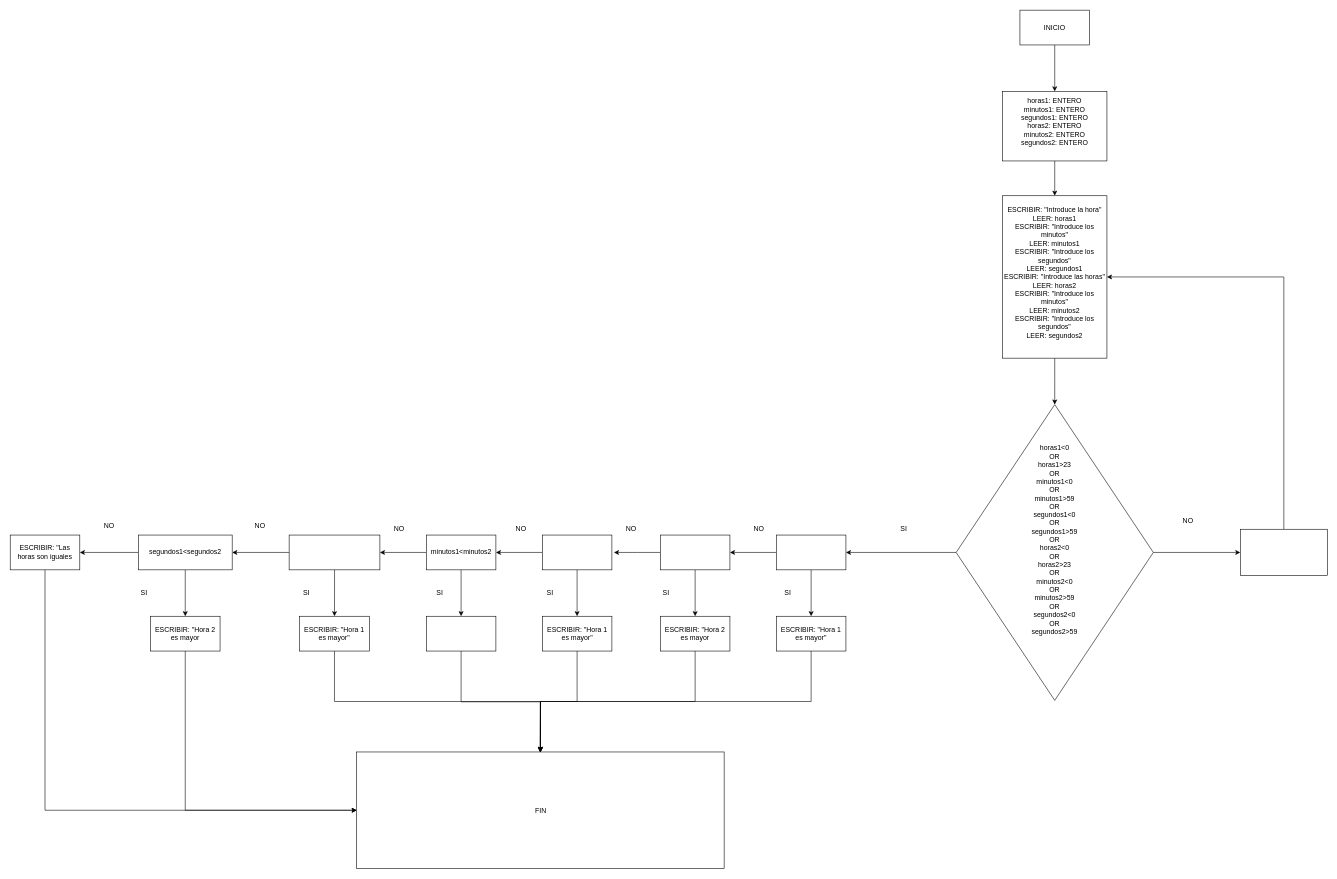
Image size: 1337x879. Some labels were removed from this diagram. Here are the shapes that lost their labels. From the top down, the centre of each, then its label:
(x=334, y=552): segundos1>segundos2
(x=577, y=552): minutos1>minutos2
(x=695, y=552): horas1<horas2
(x=811, y=552): horas1>horas2
(x=1283, y=552): ESCRIBIR: "La hora es incorrecta"
(x=461, y=633): ESCRIBIR: "Hora 2 es mayor"
